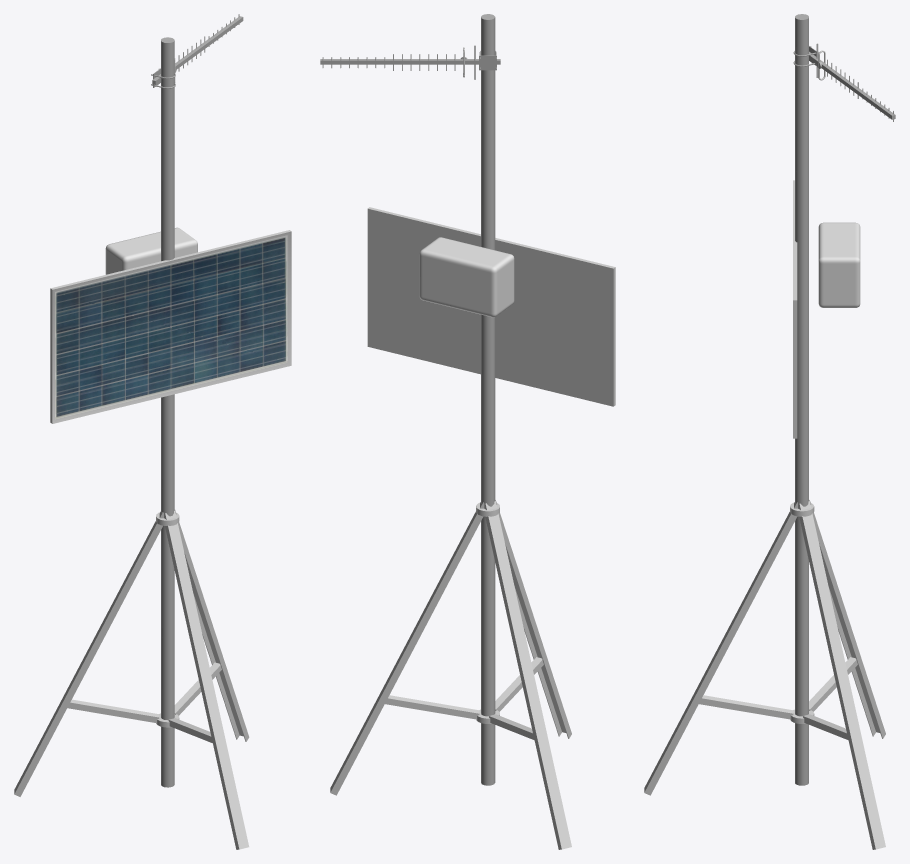
File: wifi-transformed.glb
3 renders of one model, left to right at view 1: azimuth 30°, elevation 25°; view 2: azimuth 150°, elevation 25°; view 3: azimuth 270°, elevation 25°, orthographic. The views are drawn at different scales.
Visible parts, largest first — view 1: Material-solar, Material-Tower (×4), Material-Default (×2), Material-Cel_Boix; view 2: Material-Tower (×4), Material-Default (×2), Material-Cel_Boix; view 3: Material-Tower (×4), Material-Default (×2), Material-Cel_Boix.
Boxes of the visible parts, bbox=[...] form: Material-solar: bbox=[55, 235, 287, 419]; Material-Tower (×4): bbox=[14, 230, 291, 849]; Material-Default (×2): bbox=[151, 16, 243, 787]; Material-Cel_Boix: bbox=[105, 227, 197, 274]; Material-Tower (×4): bbox=[330, 207, 615, 849]; Material-Default (×2): bbox=[320, 14, 500, 785]; Material-Cel_Boix: bbox=[419, 237, 514, 317]; Material-Tower (×4): bbox=[644, 180, 885, 849]; Material-Default (×2): bbox=[793, 14, 895, 785]; Material-Cel_Boix: bbox=[818, 222, 860, 307].
Size of the model in its own units: 2.05 by 6.18 by 1.81.
Materials: 4 (1 with a texture image).
